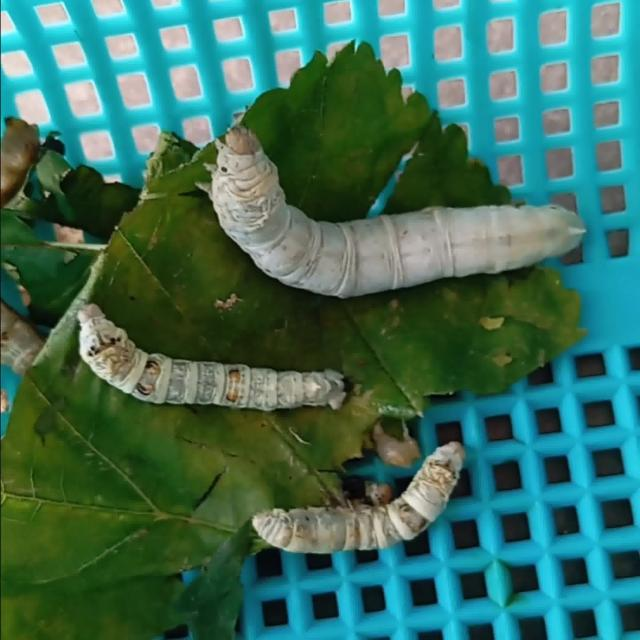Grasserie: (199, 113, 604, 316), (171, 433, 509, 600), (45, 289, 361, 429)
